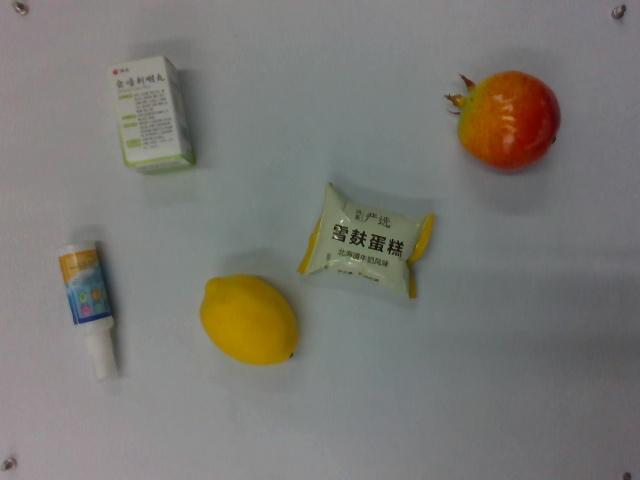dessert: (299, 181, 434, 304), (103, 52, 201, 179)
detergent: (54, 238, 122, 382)
lemon: (198, 271, 300, 369)
pomegranate: (443, 65, 563, 177)
